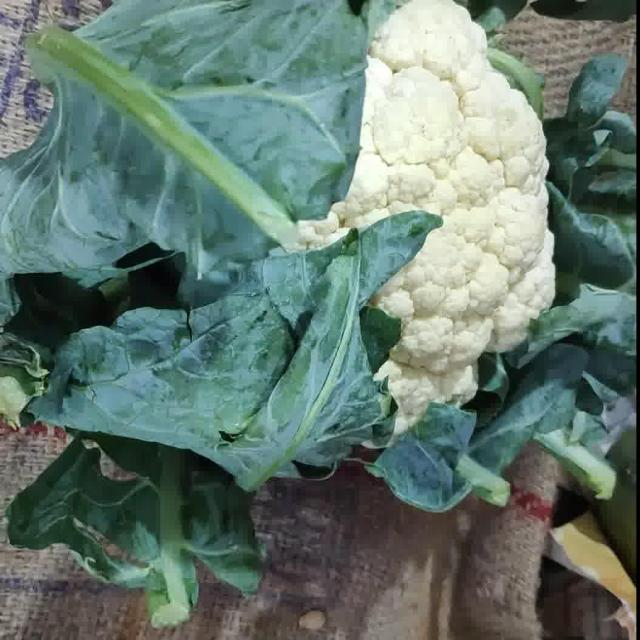Cauliflower: (299, 0, 554, 432)
